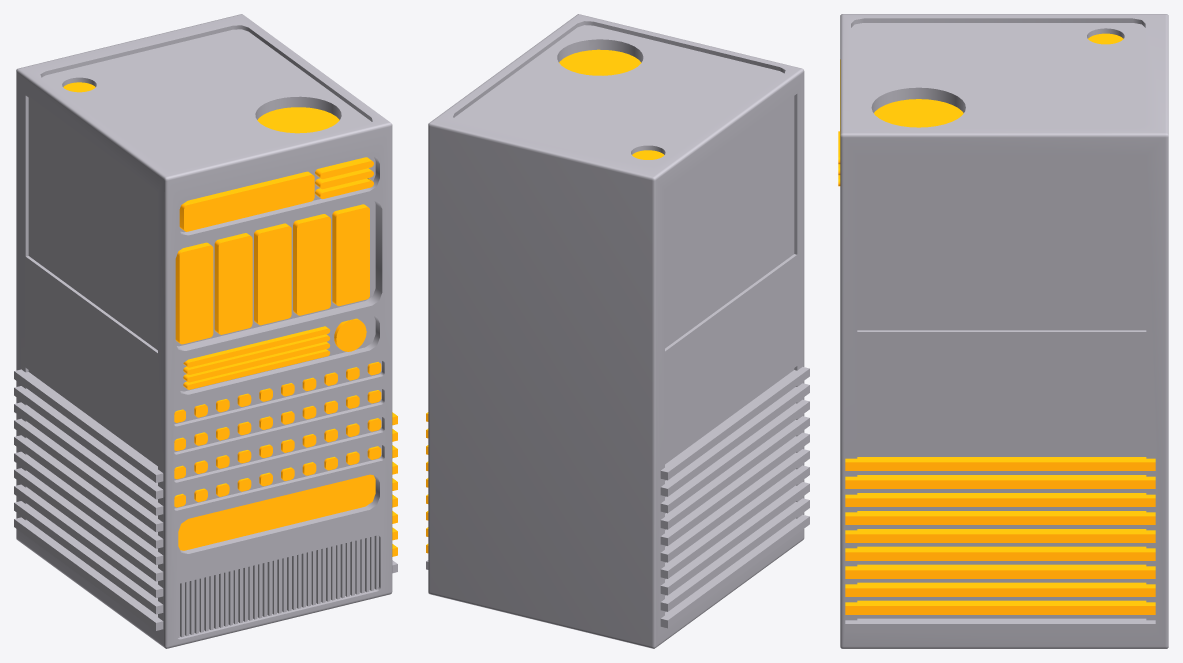
File: server3.glb
3 renders of one model, left to right at view 1: azimuth 30°, elevation 25°; view 2: azimuth 150°, elevation 25°; view 3: azimuth 270°, elevation 25°, orthographic. The views are drawn at different scales.
Parts seen in each view (by area): view 1: server3; view 2: server3; view 3: server3.
Part boxes in pixels (x1,y1,x2,y2): server3: (14,14,397,648); server3: (426,14,809,648); server3: (838,14,1168,648).
Bounding box in the file's own units: 14.8 × 27.58 × 16.03.
